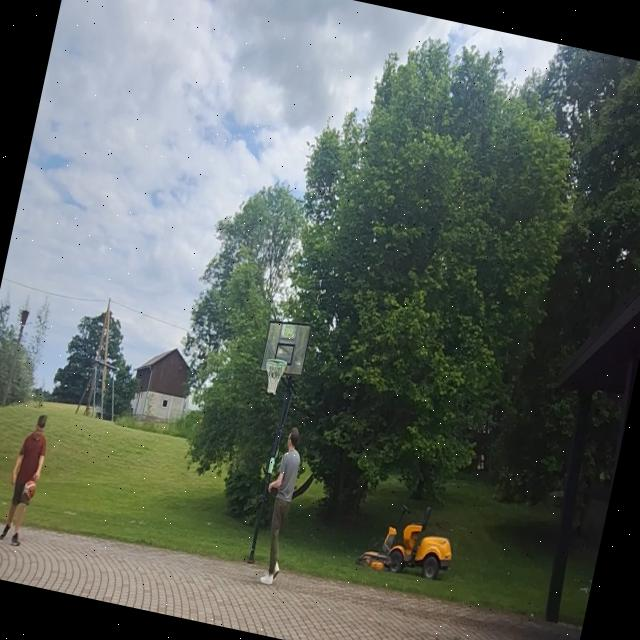ball: (20, 476, 38, 504)
basket: (258, 354, 288, 399)
player: (248, 421, 311, 594), (0, 406, 55, 548)
